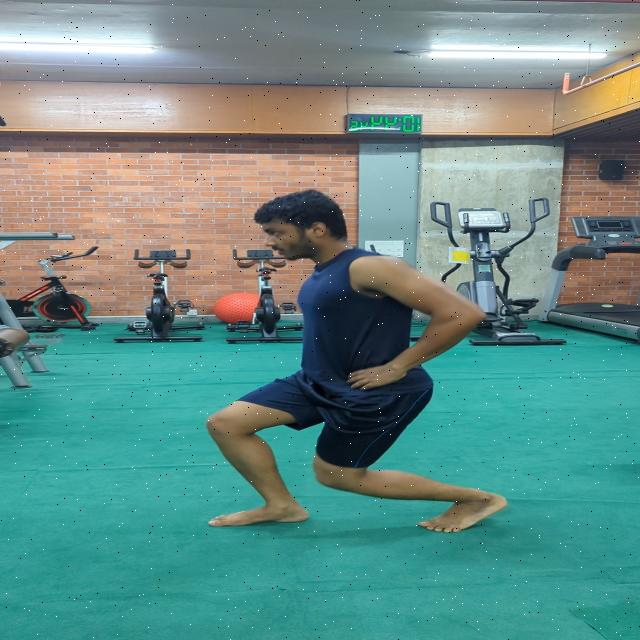Normal_Lunges: (194, 186, 509, 537)
